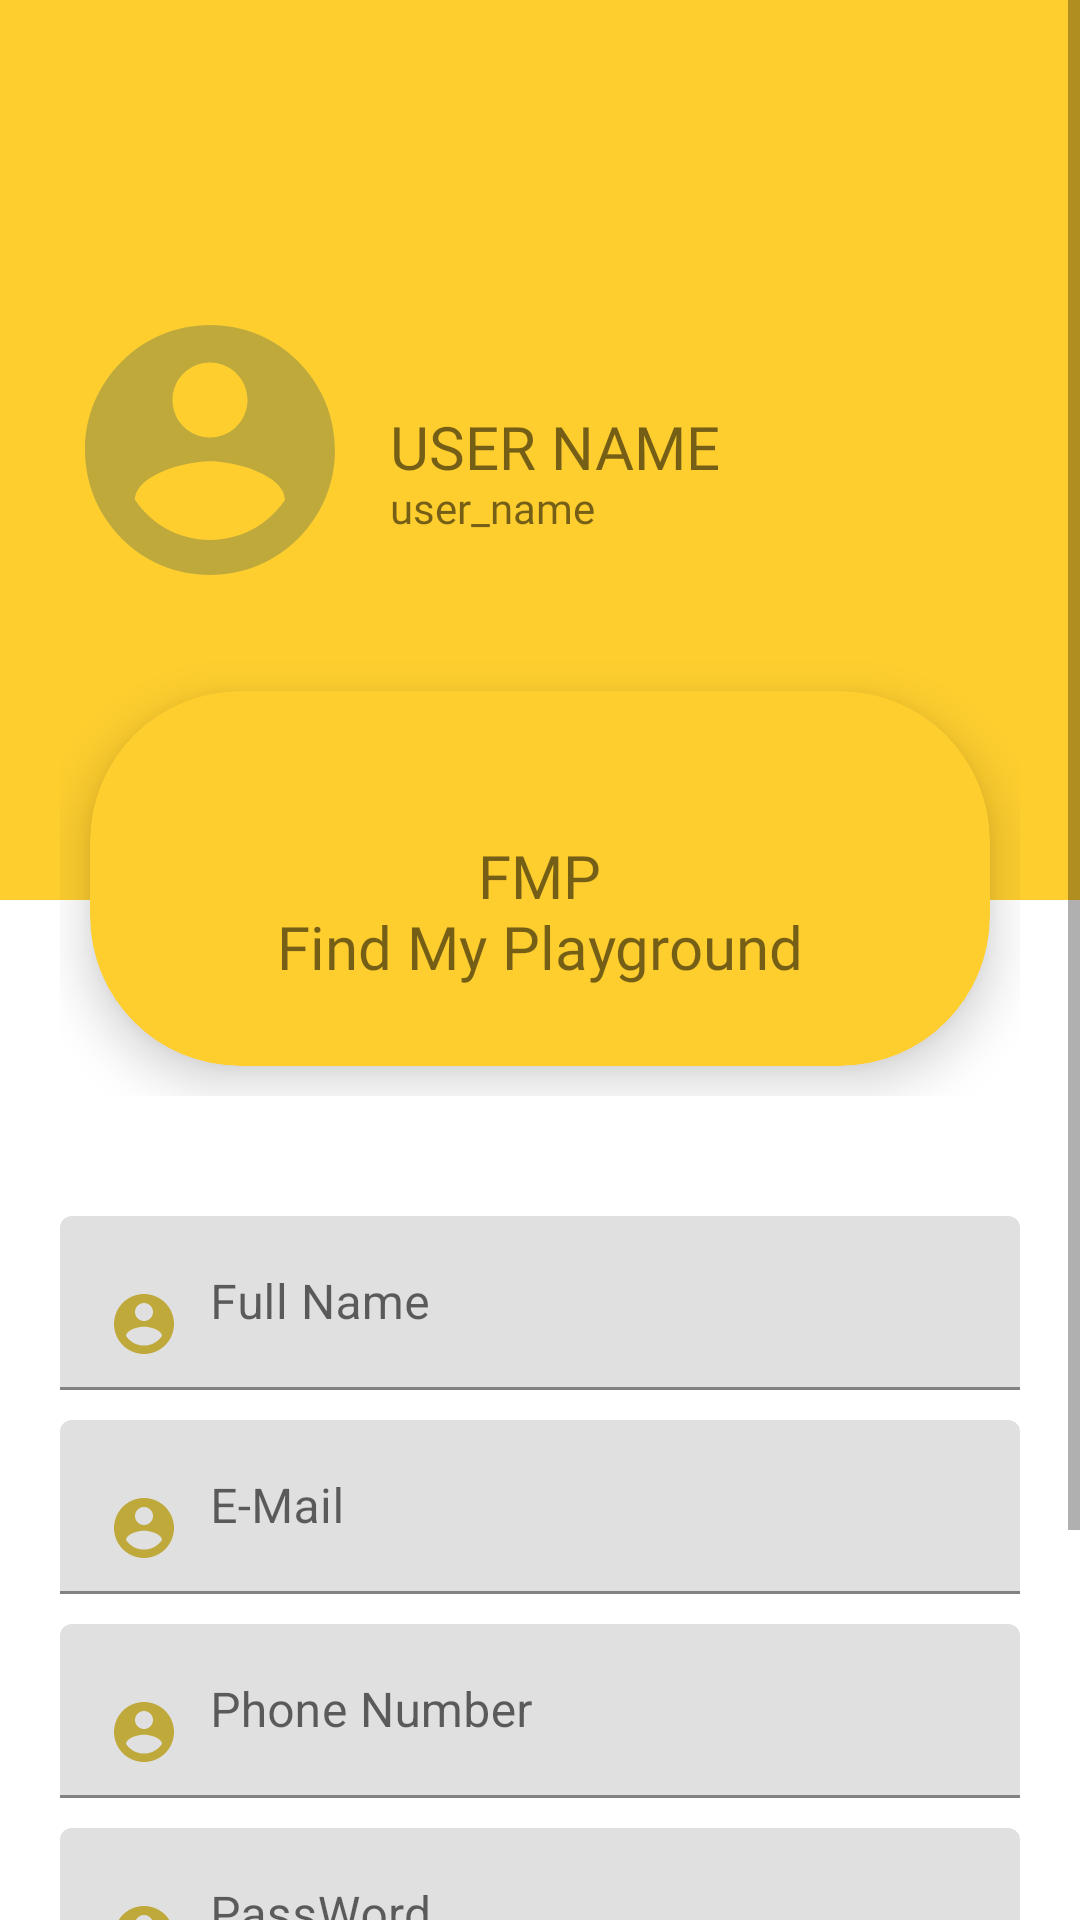

Locate icon controls on the screen. Image size 1080x1920, boxes as bbox=(x1, y1, x2, y2).
profile: bbox=(85, 325, 335, 575)
